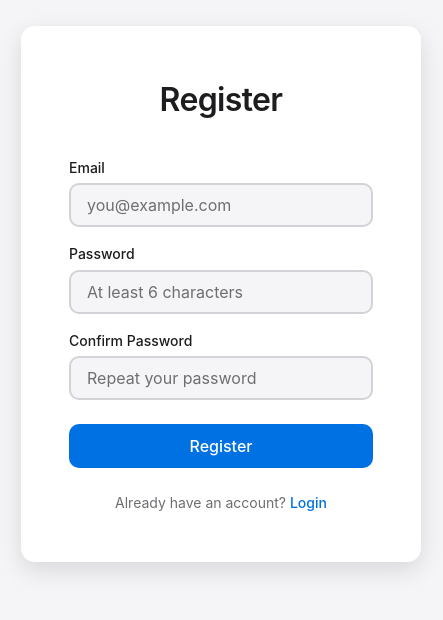
RegisterPage › shows error when passwords do not match
The width and height of the screenshot is (443, 620).
Type "test@test.com" into the field labelled "Email" at (221, 205), box [69,183,373,227]
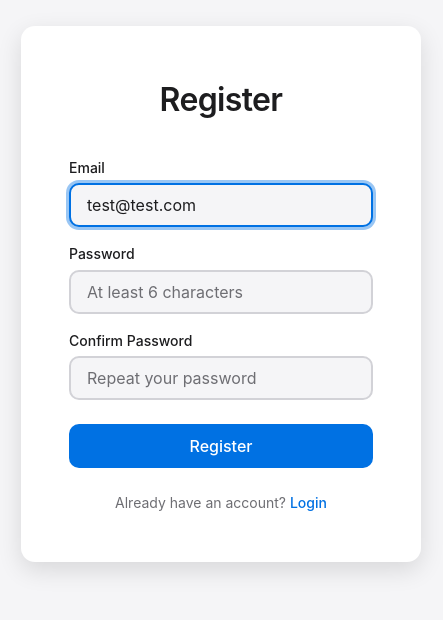
Type "password123" into the password field labelled "Password" at (221, 292), box [69,270,373,314]
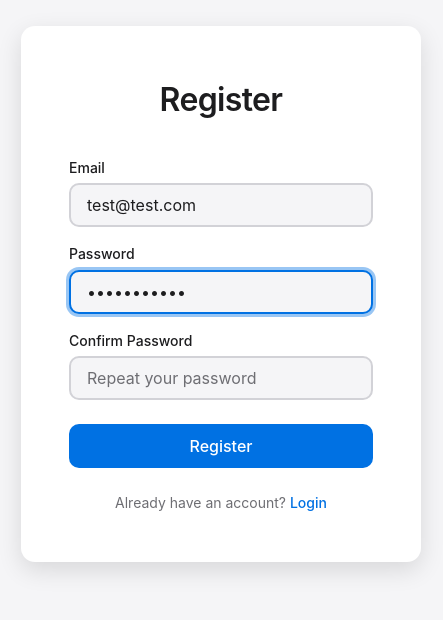
Type "password456" into the password field labelled "Confirm Password" at (221, 378), box [69,356,373,400]
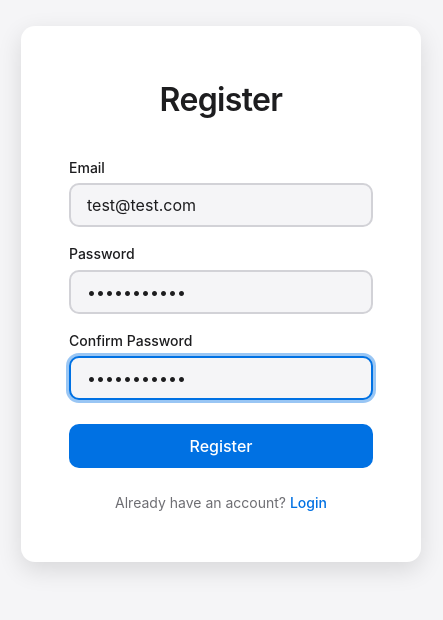
Click the button "Register" at (221, 446), box [69,424,373,468]
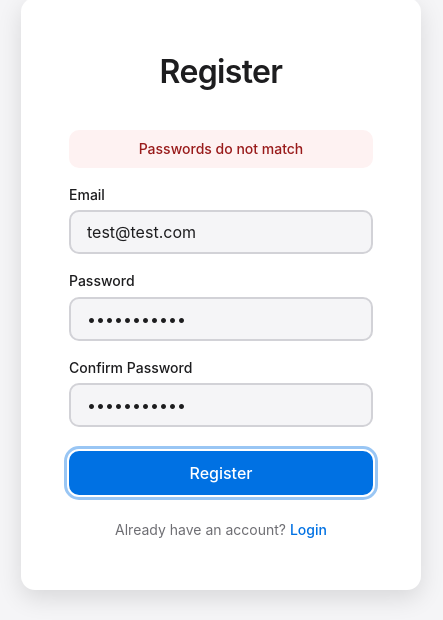
Now the message reads "Passwords do not match", box [139,140,303,157]
